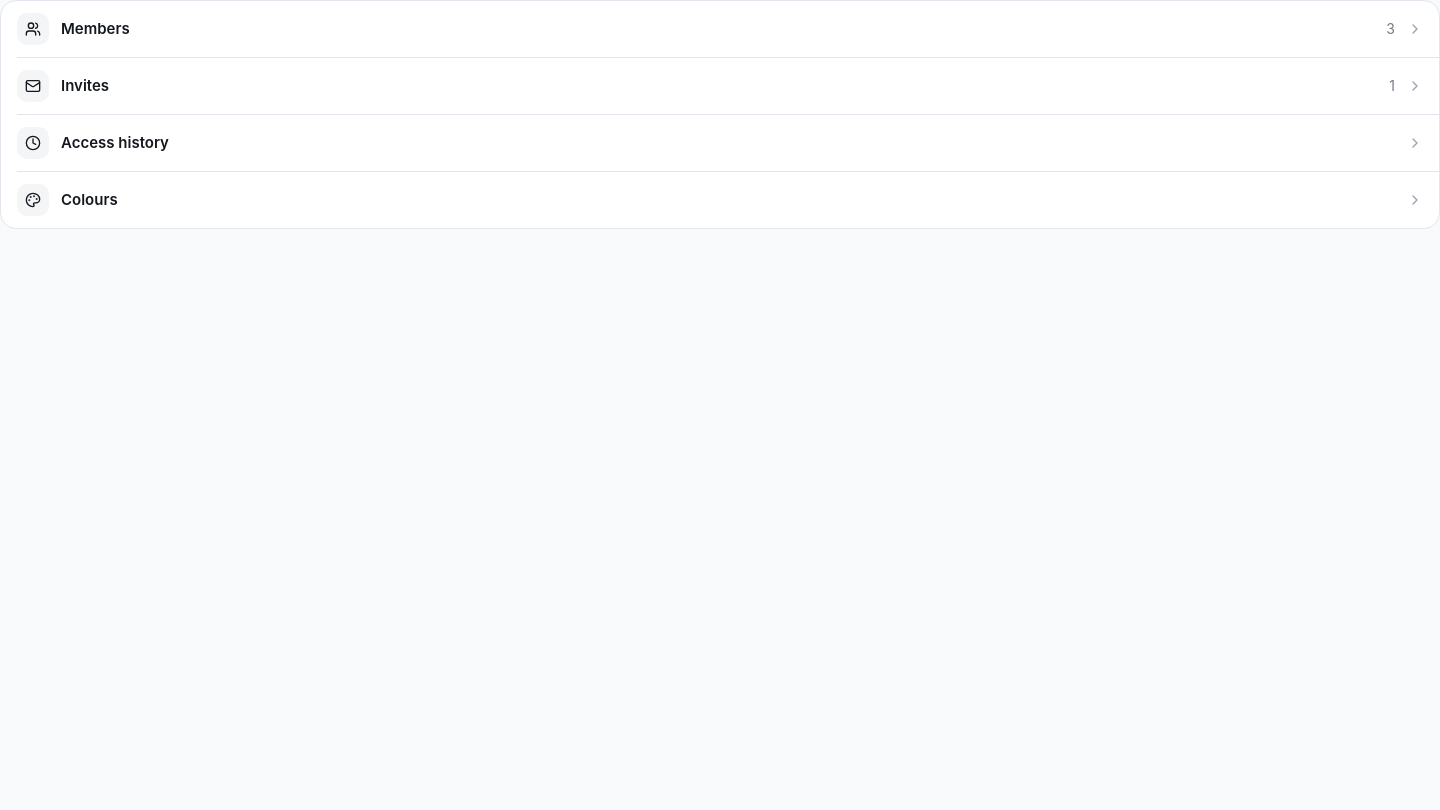
Test: WorkspaceAccessMobile › keeps disabled people behind their own tab
Click the button "Members 3". click: (33, 29)
box: [1,1,1439,57]
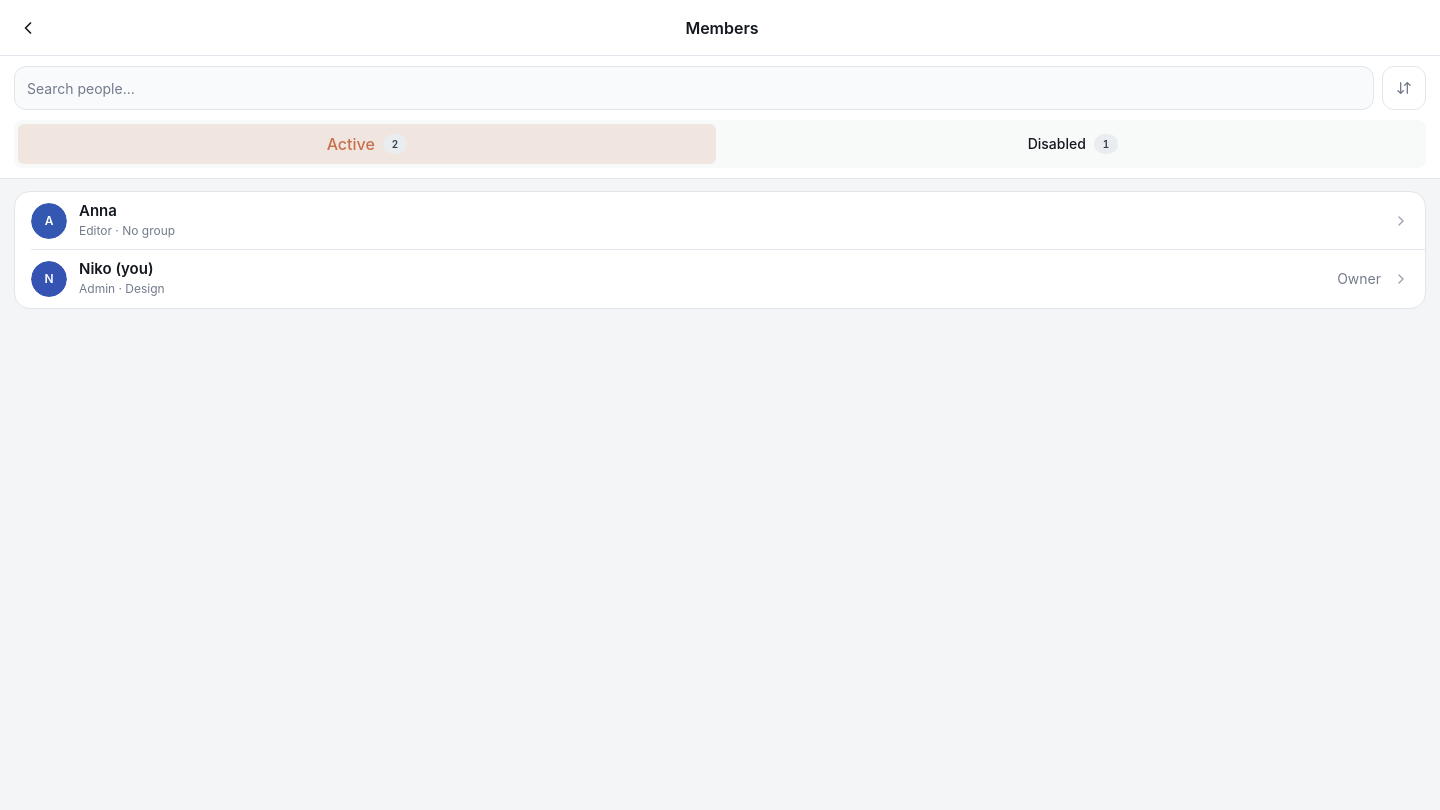
Expected: the text "Ivan" is not shown
Expected: the text "Anna" is shown, [79,202,117,221]
Click the button "Disabled 1". click: (1073, 144)
box: [724,124,1422,164]
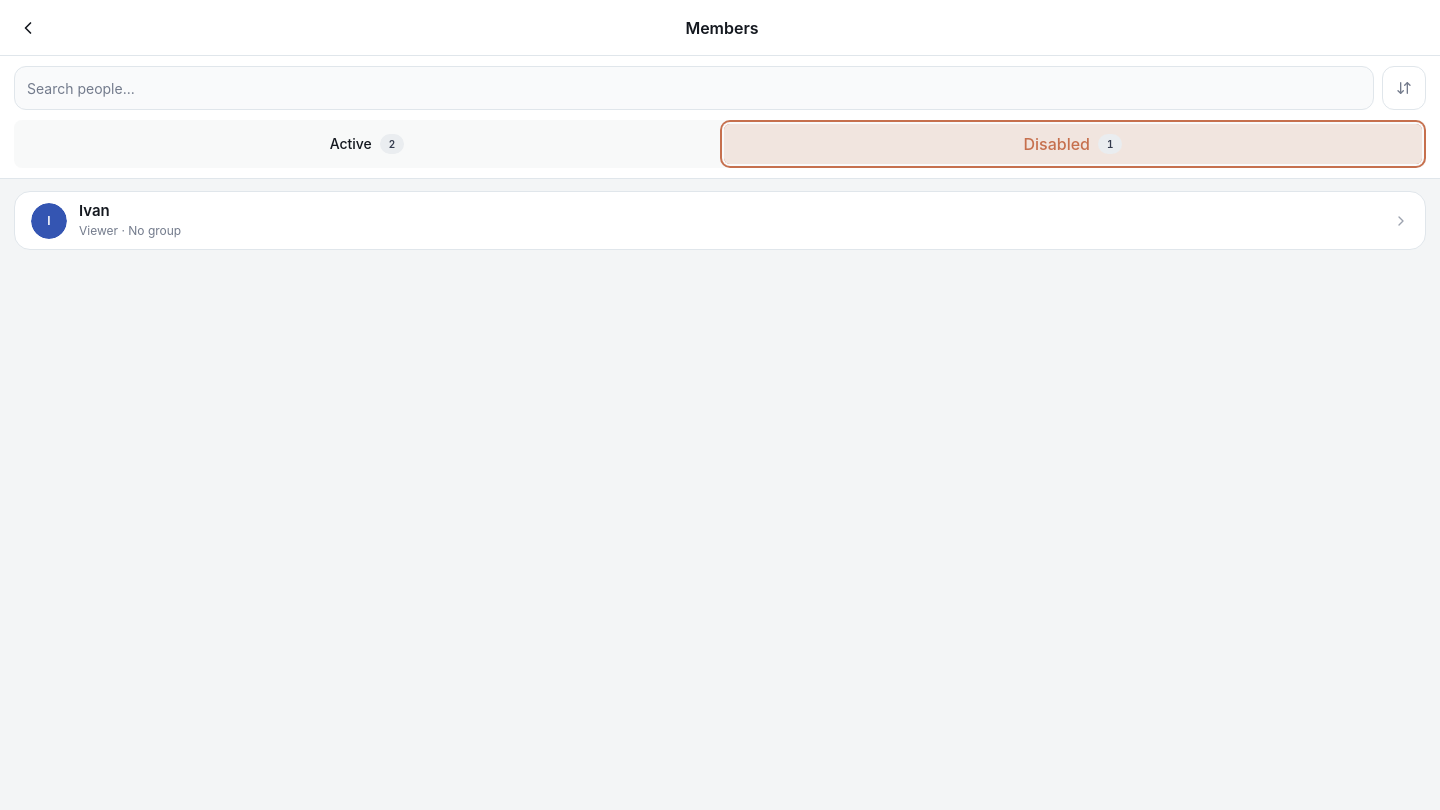
Expected: the text "Ivan" is shown, [79,202,110,221]
Expected: the button "Anna" is gone
